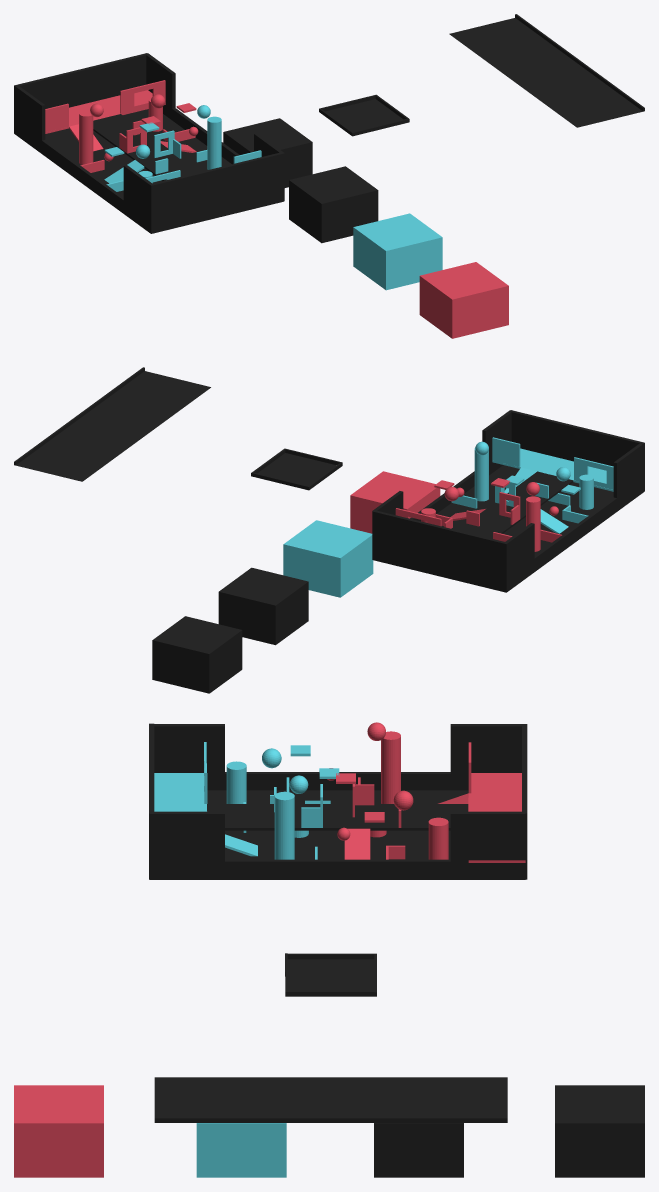
File: LaserTagArena.glb
3 views of the same model, one above another, from view 1: azimuth 30°, elevation 25°; view 2: azimuth 150°, elevation 25°; view 3: azimuth 270°, elevation 25° (orthographic). The views are drawn at different scales.
Parts seen in each view (by area): view 1: Cube; view 2: Cube; view 3: Cube.
Part boxes in pixels (x1,y1,x2,y2): Cube: (14,14,644,338); Cube: (14,367,644,693); Cube: (14,722,644,1177).
Size of the model in its own units: 101 by 37.62 by 80.98.
